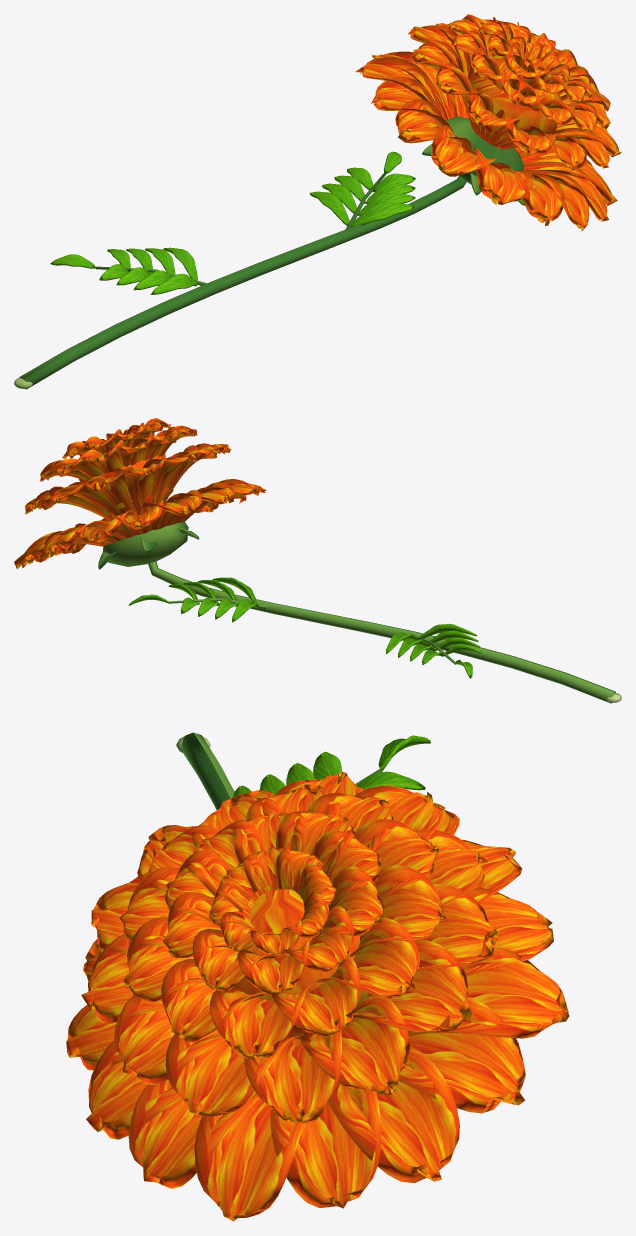
File: NP_Marigold_Harvest.fbx
3 renders of one model, top to bottom at view 1: azimuth 30°, elevation 25°; view 2: azimuth 150°, elevation 25°; view 3: azimuth 270°, elevation 25°, orthographic. The views are drawn at different scales.
Visible parts, largest first — view 1: NP_Marigold_Harvest; view 2: NP_Marigold_Harvest; view 3: NP_Marigold_Harvest.
Boxes of the visible parts, x1,y1,x2,y2 form: NP_Marigold_Harvest: (14, 14, 621, 389); NP_Marigold_Harvest: (14, 418, 621, 703); NP_Marigold_Harvest: (66, 732, 569, 1221).
Bounding box in the file's own units: 58.9 × 19.27 × 23.17.
